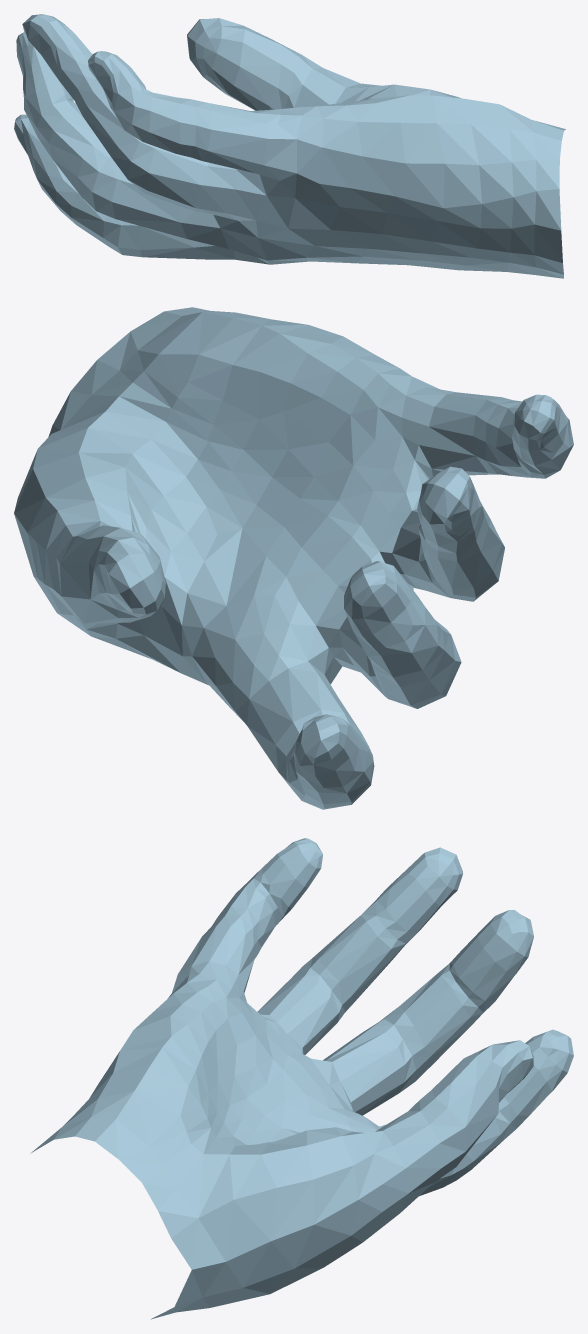
The model's file is frame_052.glb.
The picture shows the model from 3 angles, top to bottom: view 1: azimuth 30°, elevation 25°; view 2: azimuth 150°, elevation 25°; view 3: azimuth 270°, elevation 25°; orthographic projection. The views are drawn at different scales.
Parts seen in each view (by area): view 1: world; view 2: world; view 3: world.
Boxes of the visible parts, box(x1,y1,x2,y2) form: world: box(14, 14, 565, 278); world: box(14, 307, 573, 809); world: box(30, 838, 573, 1319).
Bounding box in the file's own units: 0.1202 × 0.0729 × 0.1257.
